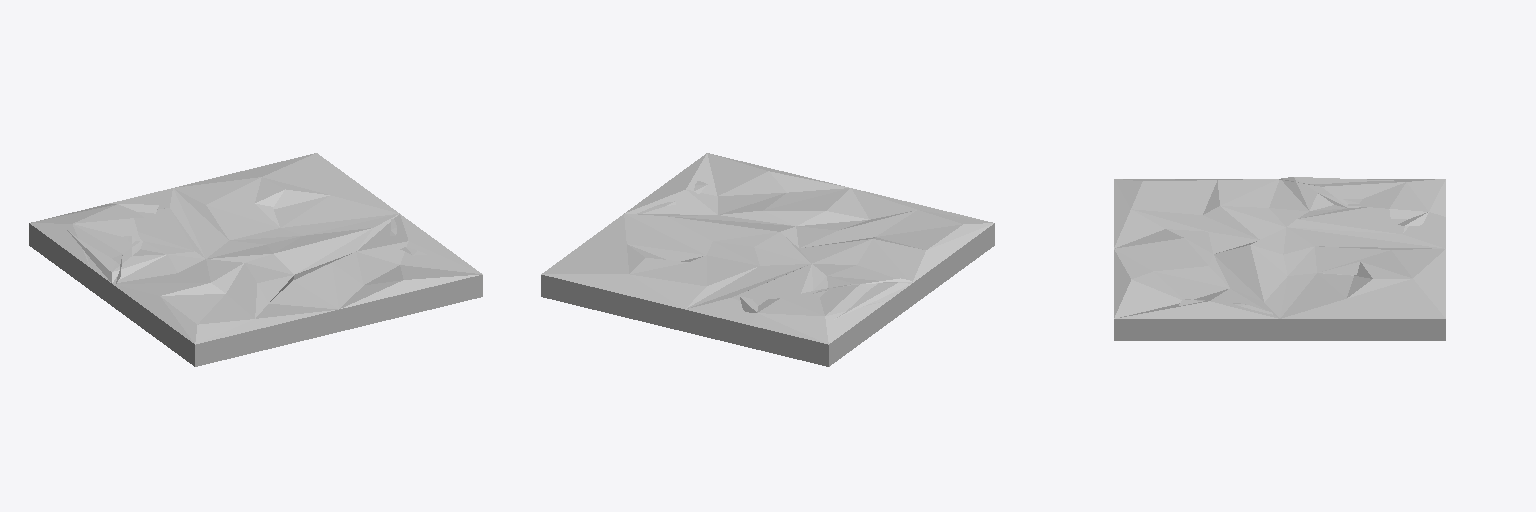
Rendered from piso 2.obj.
3 views of the same model, side by side, from view 1: azimuth 30°, elevation 25°; view 2: azimuth 150°, elevation 25°; view 3: azimuth 270°, elevation 25° (orthographic).
Visible parts, largest first — view 1: piso_2 piso_2, piso_2 musgo_1; view 2: piso_2 piso_2, piso_2 musgo_1; view 3: piso_2 piso_2, piso_2 musgo_1.
Part boxes in pixels (x1,y1,x2,y2): piso_2 piso_2: (29, 153, 482, 366); piso_2 musgo_1: (30, 204, 158, 283); piso_2 piso_2: (541, 153, 994, 366); piso_2 musgo_1: (740, 278, 911, 344); piso_2 piso_2: (1114, 177, 1445, 340); piso_2 musgo_1: (1279, 179, 1445, 225).
Size of the model in its own units: 21.74 by 2.2 by 21.74.